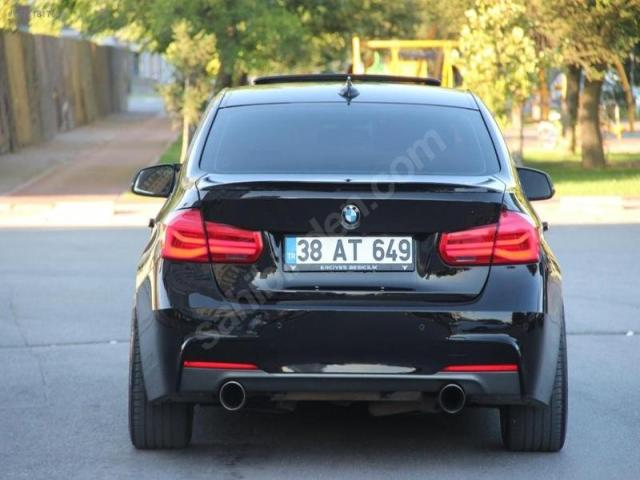plaka: (284, 236, 413, 271)
